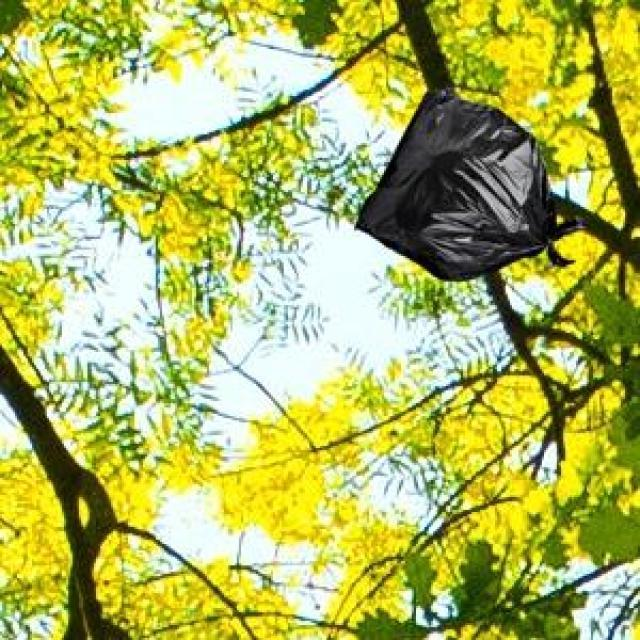waste: (356, 90, 549, 279)
